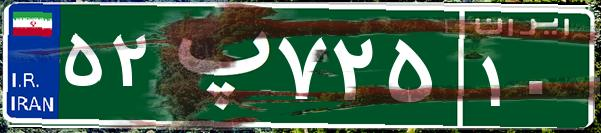0: (525, 38, 570, 115)
1: (475, 38, 525, 113)
2: (330, 28, 385, 110), (110, 28, 158, 105)
5: (385, 28, 445, 110), (57, 26, 110, 107)
7: (273, 28, 330, 110)
پ: (158, 15, 273, 115)
